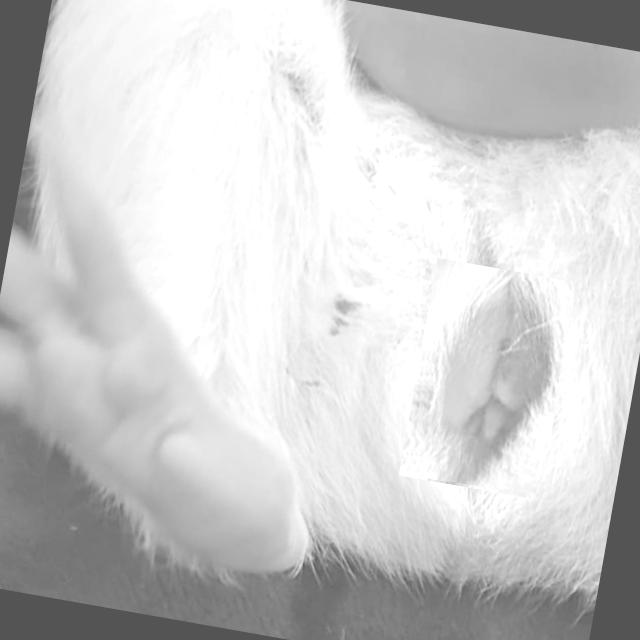fem: (408, 258, 576, 496)
